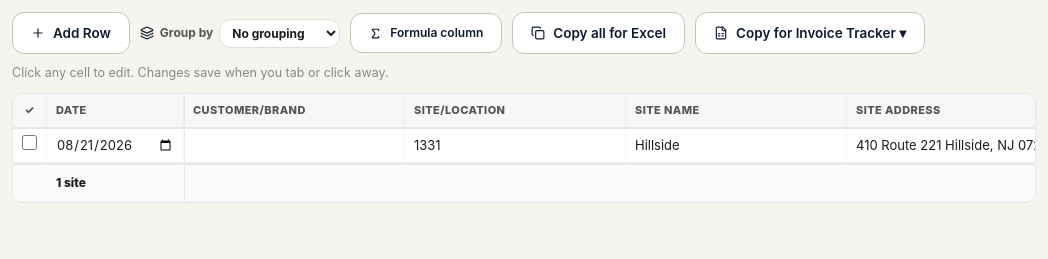
Scenario: Site Sheet board › names the group rather than showing a blank heading when a field is empty
Select "Customer" in the dropdown labelled "Group by" at (280, 33), box [219,19,340,48]
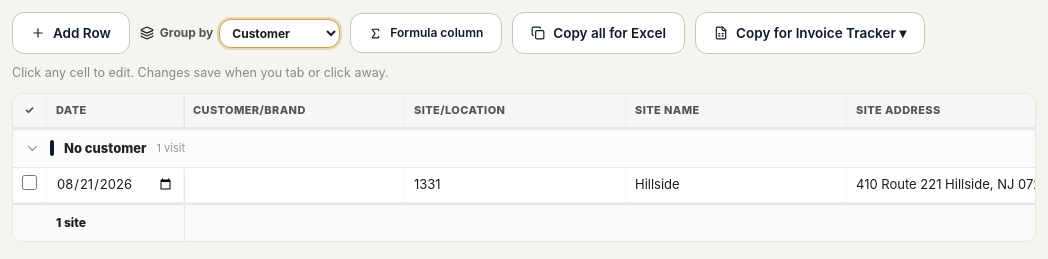
Expected: the text "No customer" is shown, [64,138,146,158]
